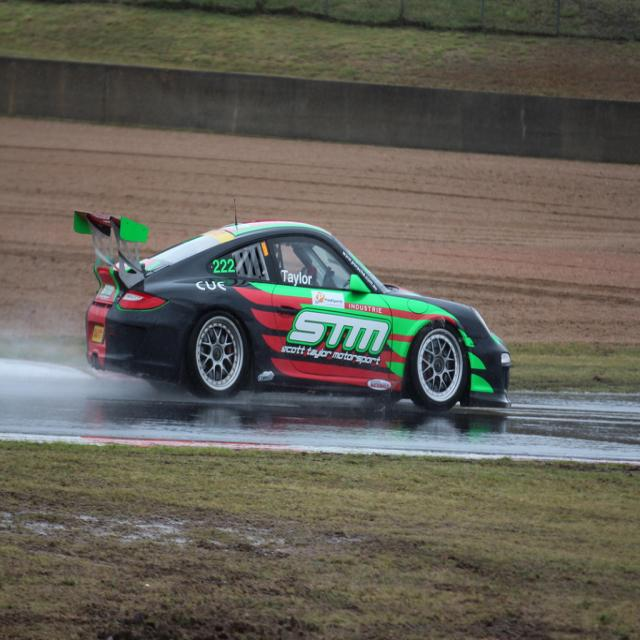car: (73, 193, 516, 412)
